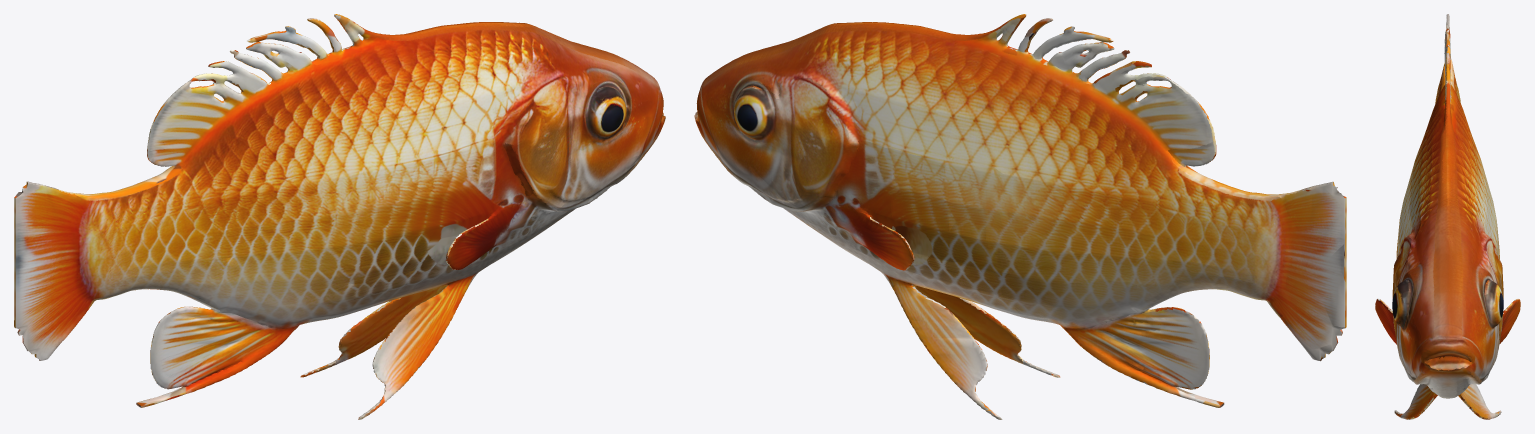
The model's file is Fish3.glb.
The picture shows the model from 3 angles, left to right: view 1: azimuth 30°, elevation 25°; view 2: azimuth 150°, elevation 25°; view 3: azimuth 270°, elevation 25°; orthographic projection. The views are drawn at different scales.
Visible parts, largest first — view 1: Goldfish; view 2: Goldfish; view 3: Goldfish.
Boxes of the visible parts, x1,y1,x2,y2 form: Goldfish: (14,14,665,419); Goldfish: (694,14,1346,419); Goldfish: (1375,14,1520,419).
Size of the model in its own units: 0.15 by 0.0856 by 0.0322.
1 material, 1 textured.
